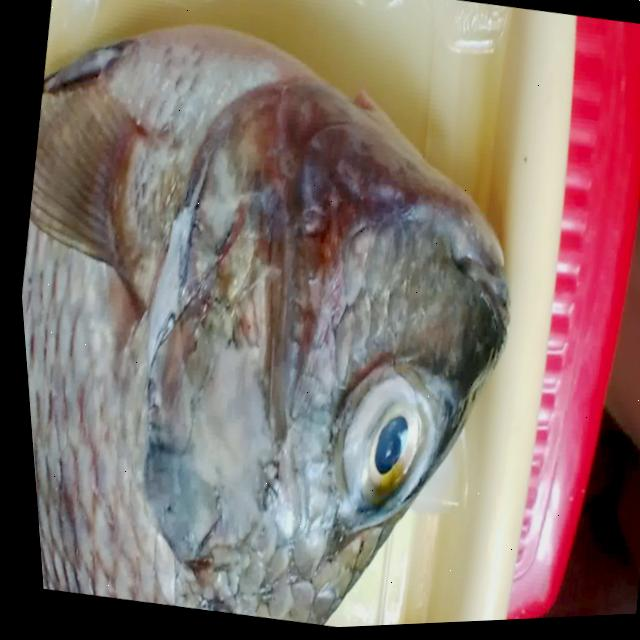Fresh: (304, 355, 449, 547)
